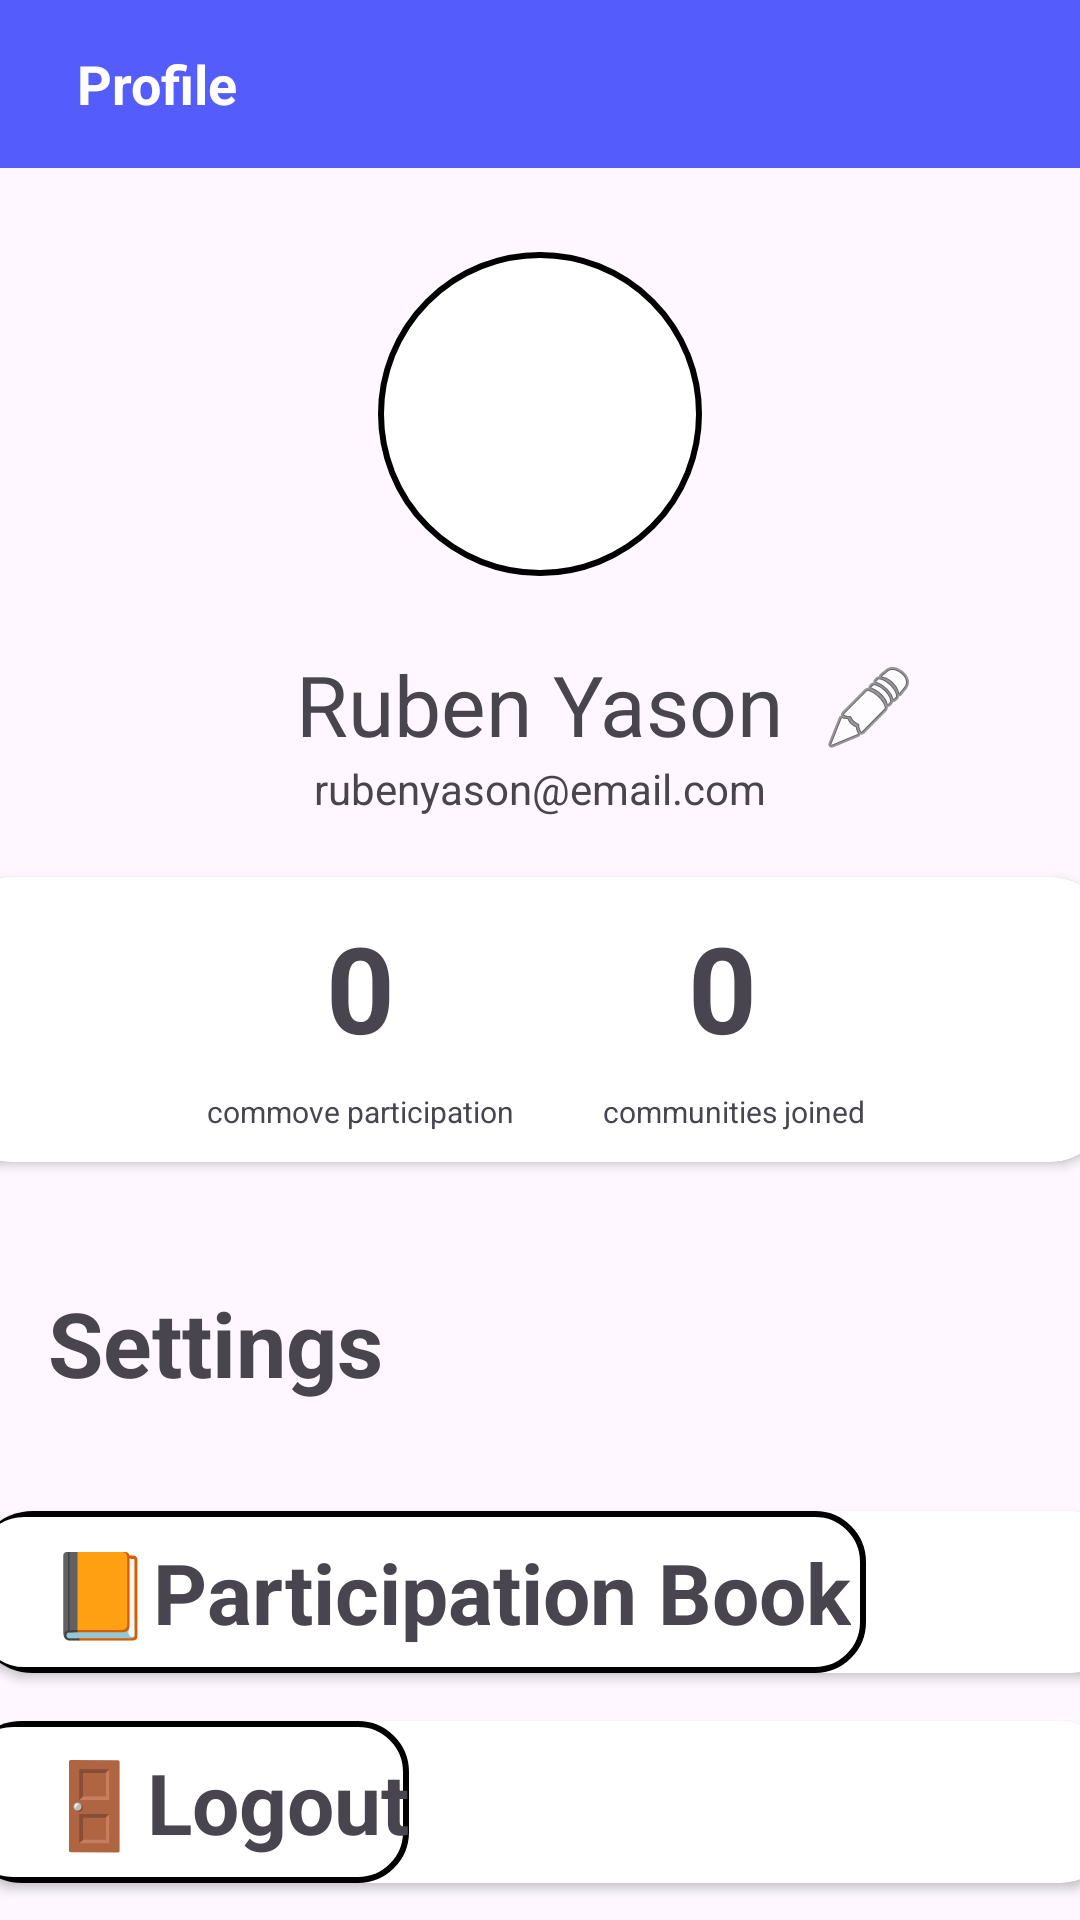

Where to tap for icons on this 1080 x 1920 app screen, as point (x, y):
edit: point (868, 707)
